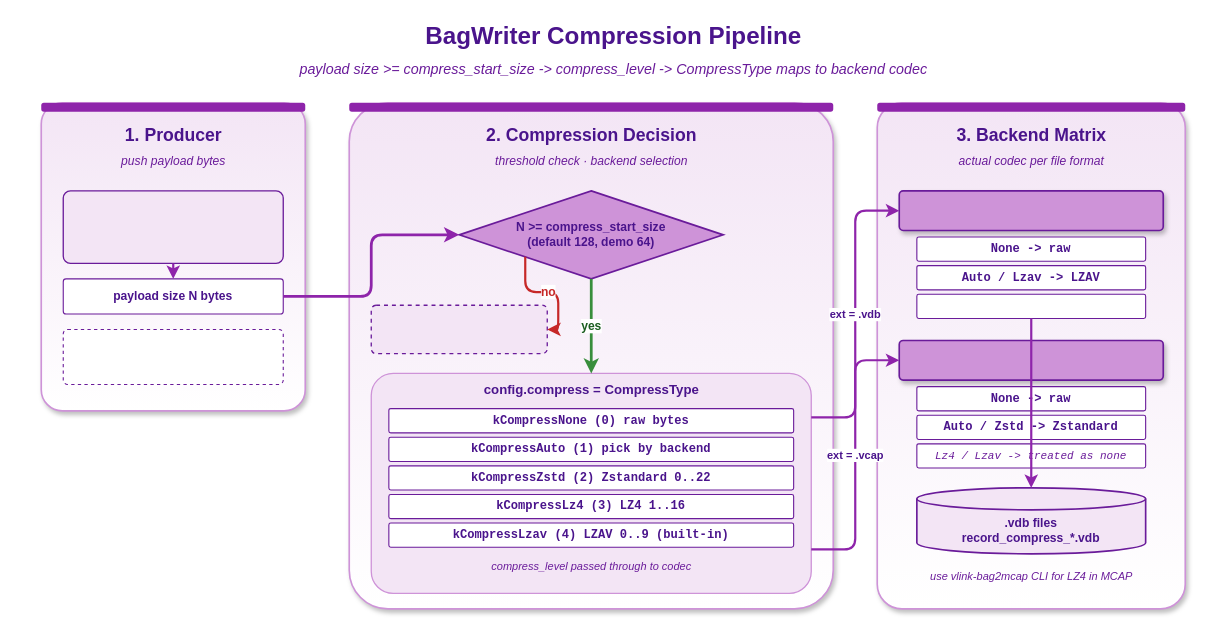
Some shapes in this 1225 by 636 pixel diagram are drawn without their labels. The centre of each missing label's shape, as x and y in pixels:
".vcap / .vcapx (MCAP, VCAPWriter)" goes at pixel 1032 361.
".vdb (SQLite, VDBWriter)" goes at pixel 1032 211.
"ignore_compress_urls optional bypass set" goes at pixel 172 356.
"store raw bytes (no codec)" goes at pixel 458 329.
"writer->push(url, ser_type, schema_type, action, data)" goes at pixel 172 227.
"Zstd / Lz4 -> treated as none" goes at pixel 1031 305.
